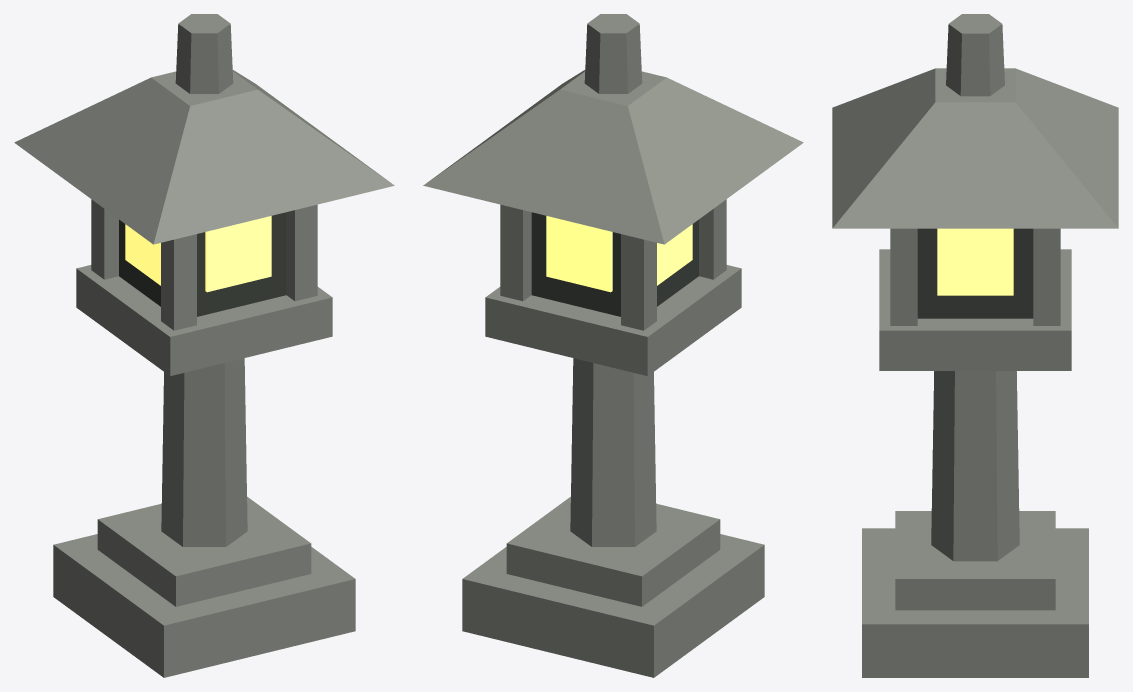
Rendered from stone-lantern-lod.glb.
3 views of the same model, side by side, from view 1: azimuth 30°, elevation 25°; view 2: azimuth 150°, elevation 25°; view 3: azimuth 270°, elevation 25° (orthographic). The views are drawn at different scales.
Parts seen in each view (by area): view 1: stone-lantern; view 2: stone-lantern; view 3: stone-lantern.
Part boxes in pixels (x1,y1,x2,y2): stone-lantern: (14, 14, 394, 677); stone-lantern: (423, 14, 803, 677); stone-lantern: (832, 14, 1118, 677).
Bounding box in the file's own units: 1.16 × 2.71 × 1.16.
